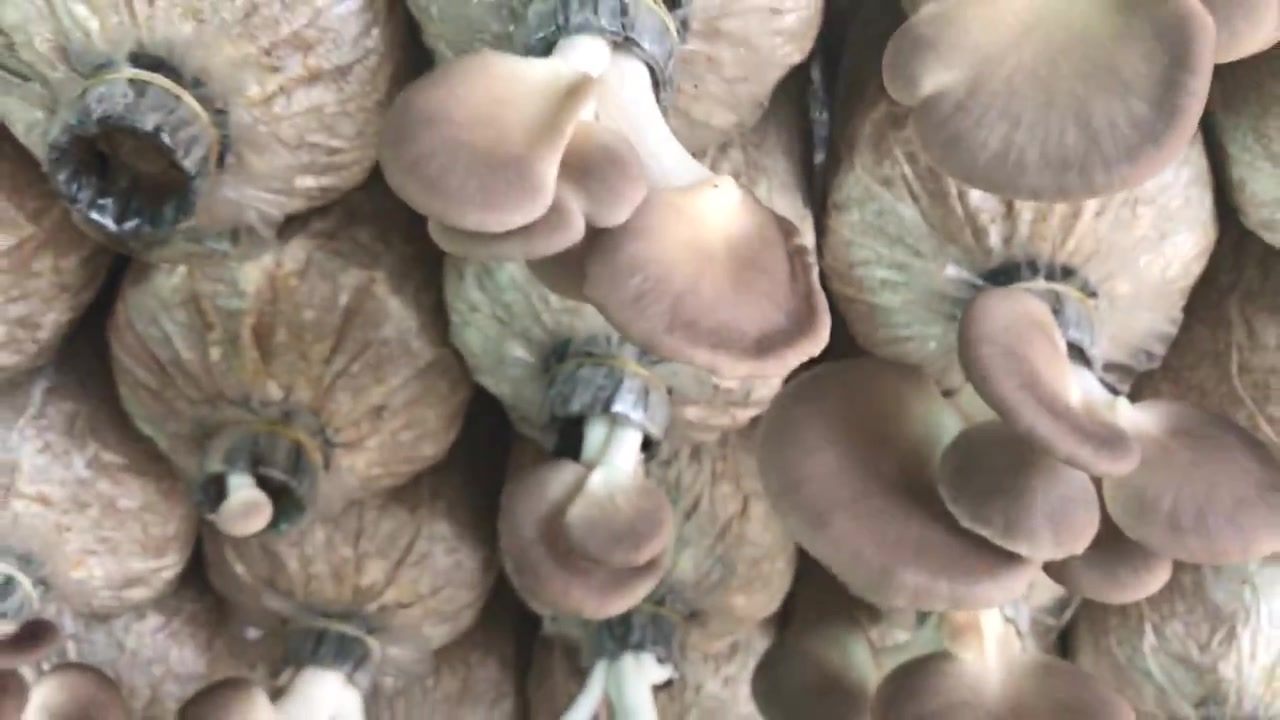nam: (758, 284, 1279, 610), (381, 1, 828, 374), (881, 1, 1280, 199), (498, 361, 677, 619), (749, 609, 1132, 720), (1, 562, 130, 720), (183, 625, 366, 720), (195, 416, 307, 537)
